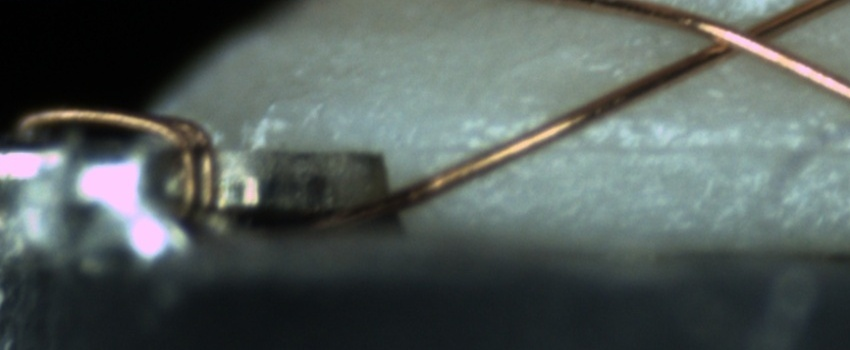CL: (693, 8, 799, 66)
DL: (429, 114, 849, 176)
TE: (9, 102, 225, 221)
